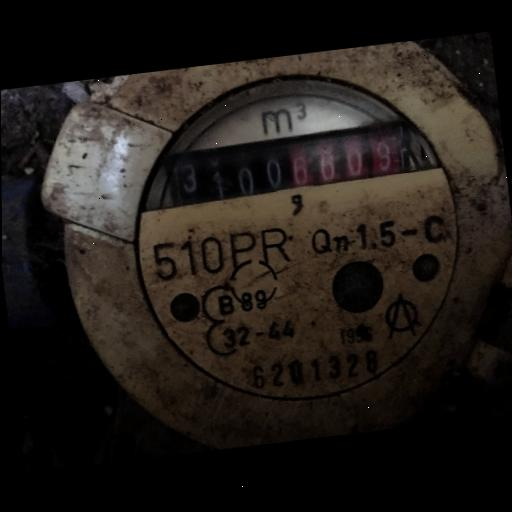0: (226, 142, 261, 199), (253, 138, 287, 194), (337, 126, 370, 183)
1: (197, 145, 233, 203)
3: (167, 150, 206, 208)
6: (308, 129, 345, 185), (281, 133, 316, 190)
9: (362, 122, 402, 178)
border_water_meter_number: (164, 121, 413, 208)
